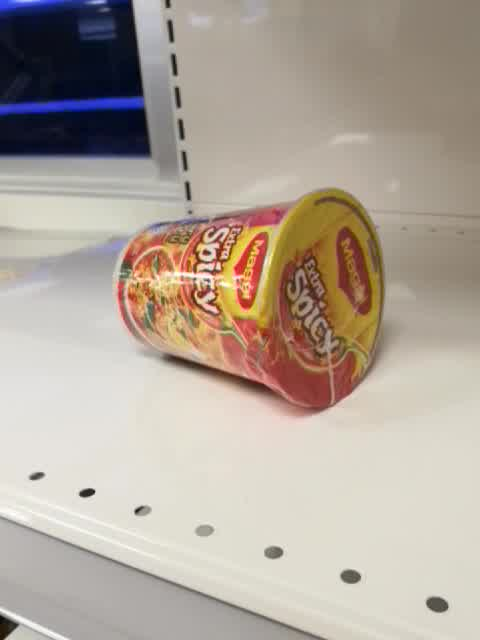maggi: (112, 184, 386, 413)
